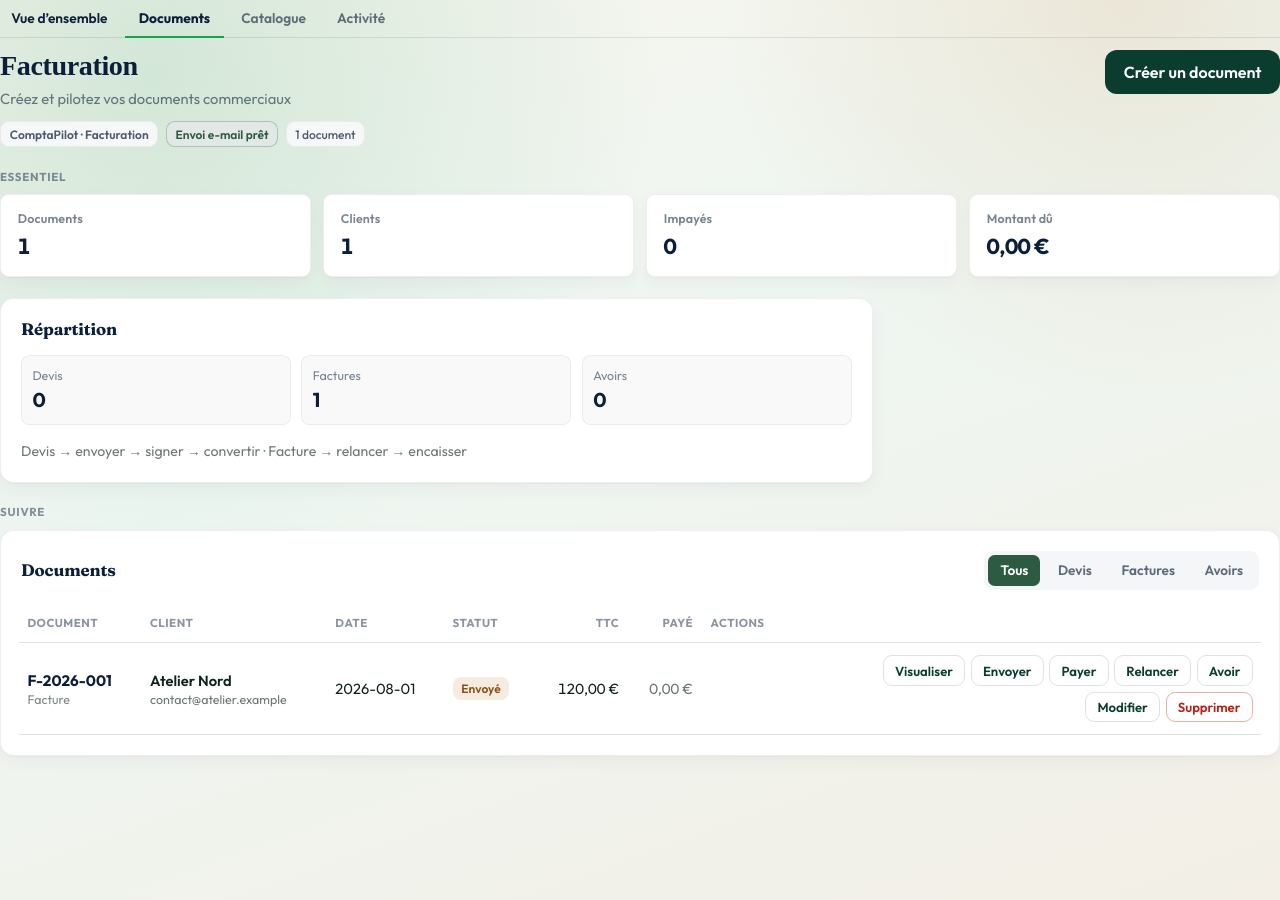
it: UXF01–UXF10 Nav & Documents entry › UXF10 — sélection type active Créer
This screenshot has width=1280, height=900.
Click the button "Créer un document".
click(1193, 72)  # box [1105,50,1279,94]
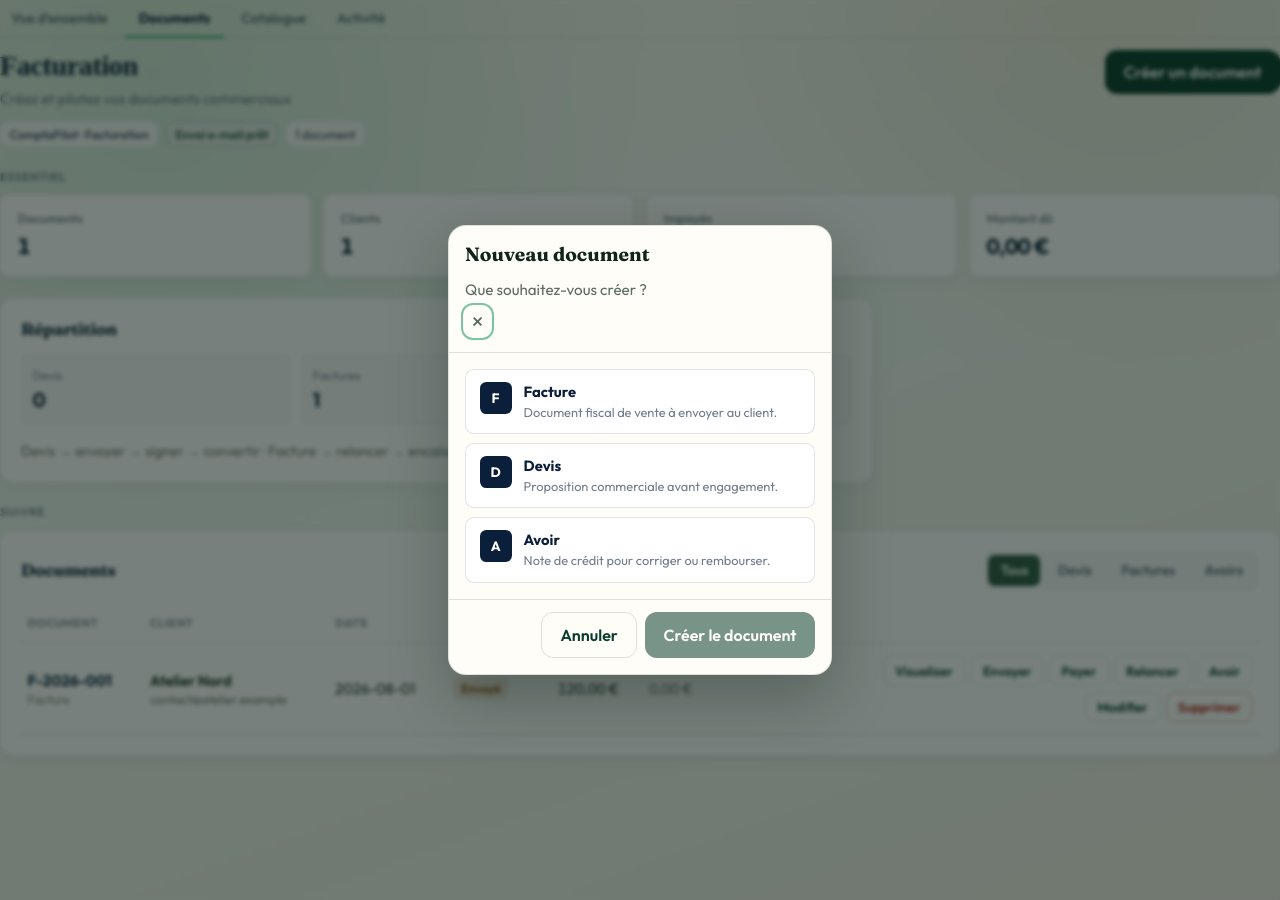
Click the radio button labelled "F Facture Document fiscal de vente à envoyer au client.".
click(640, 401)  # box [465,369,815,434]
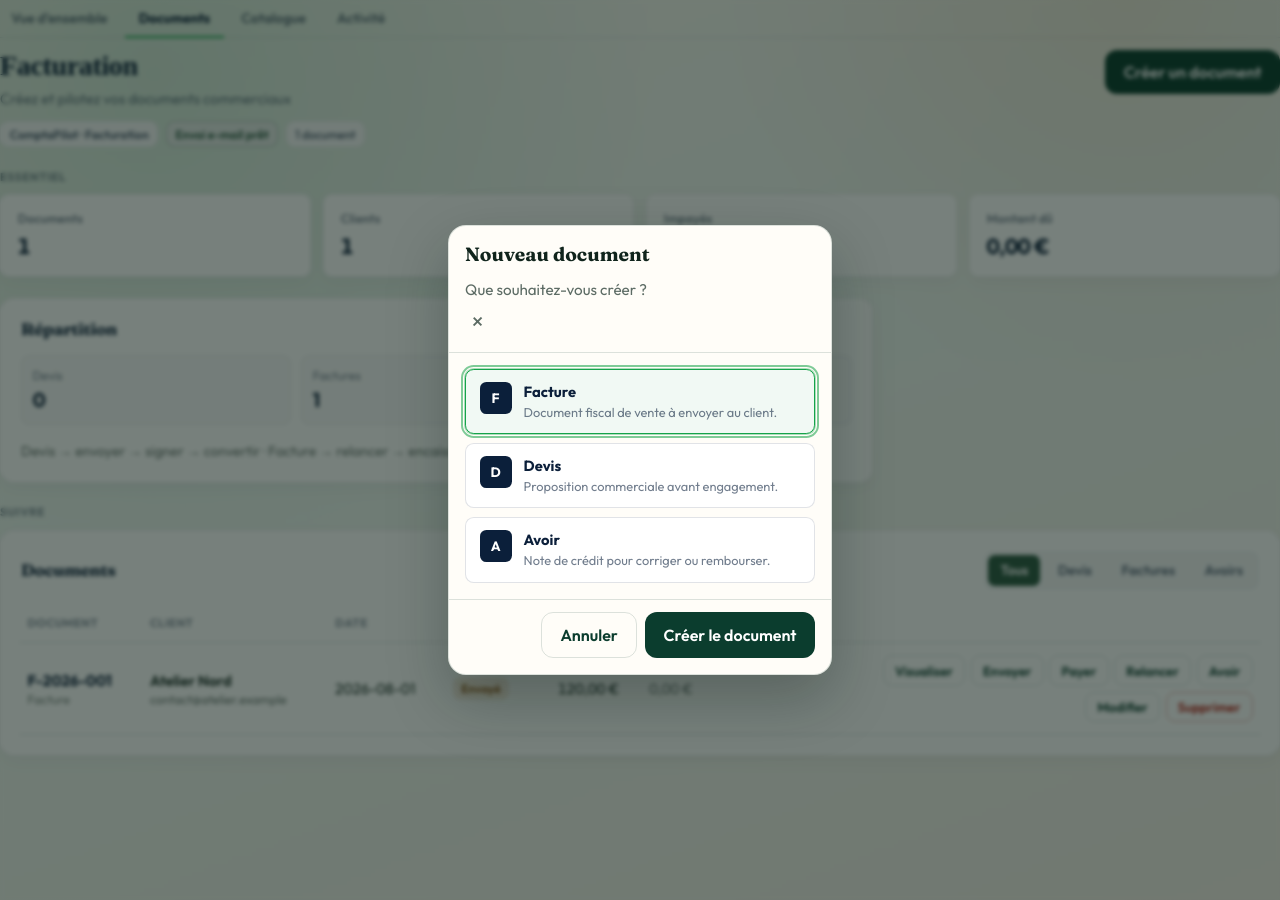
Result: the button "Créer le document" is enabled at [645,612,815,658]
